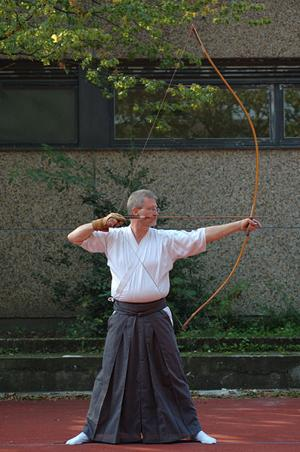person: (67, 187, 263, 446)
